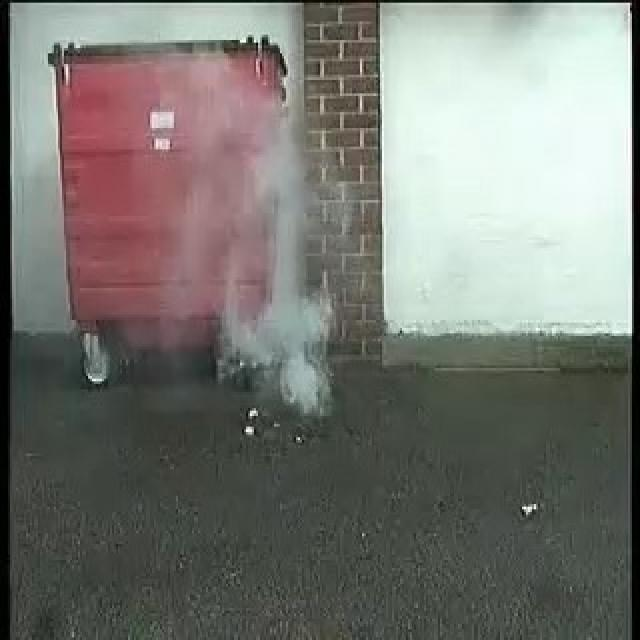smoke: (230, 122, 332, 408)
